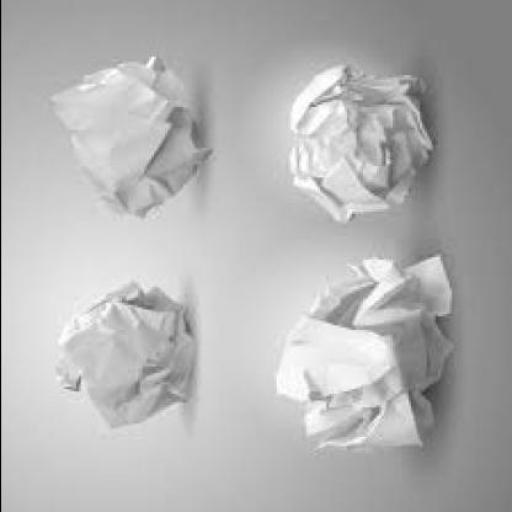paper: (274, 255, 456, 453), (48, 58, 208, 221), (284, 68, 432, 224), (50, 282, 191, 428)
